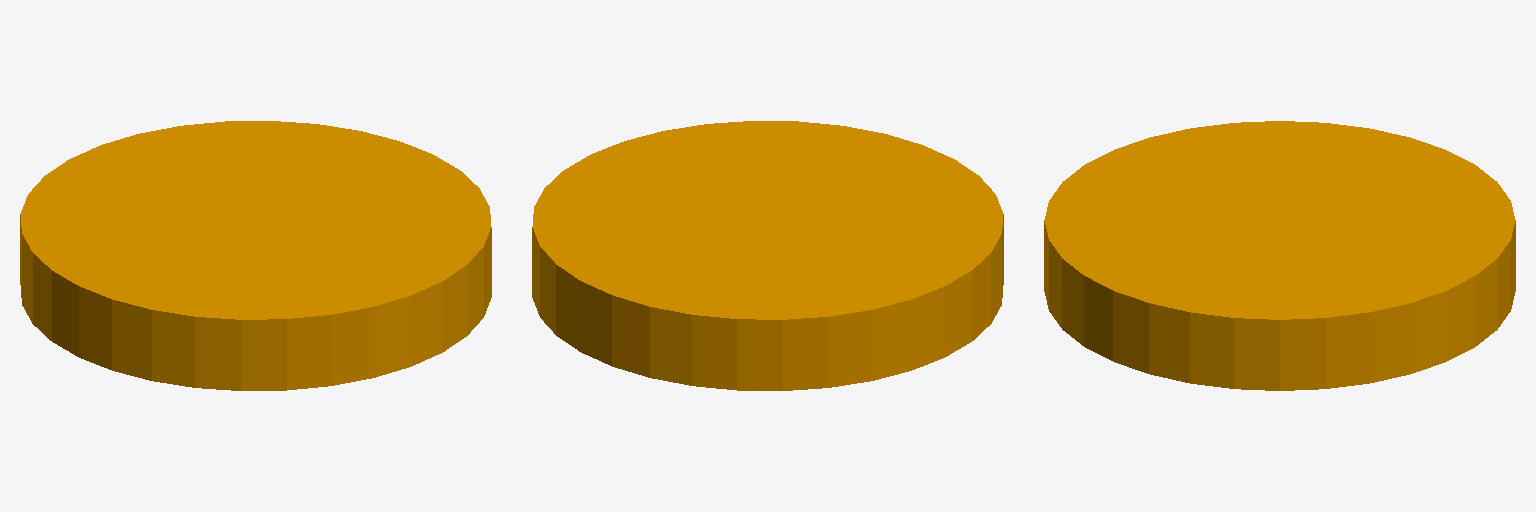
The robot description file, URDF, robot "cube":
<?xml version="1.0" ?>
<robot name="cube">
    <link name="baseLink">
        <contact>
            <lateral_friction value="1.0"/>
            <rolling_friction value="0.0"/>
            <contact_cfm value="0.0"/>
            <contact_erp value="1.0"/>
        </contact>
        <inertial>
            <origin rpy="0 0 0" xyz="0 0 0"/>
            <mass value="1.0"/>
            <inertia ixx="1" ixy="0" ixz="0" iyy="1" iyz="0" izz="1"/>
        </inertial>
        <visual>
            <origin rpy="0 0 0" xyz="0 0 0"/>
            <geometry>
                <!-- <box size="6 6 1"/> -->
                <cylinder radius="3" length="1"/>
            </geometry>
        </visual>
        <collision>
            <origin rpy="0 0 0" xyz="0 0 0"/>
            <geometry>
                <!-- <box size="6 6 1"/> -->
                <cylinder radius="3" length="1"/>
            </geometry>
        </collision>
    </link>
</robot>

--- Render facts (derived) ---
Views: 3 orthographic renders of the robot side by side, from view 1: azimuth 30°, elevation 25°; view 2: azimuth 150°, elevation 25°; view 3: azimuth 270°, elevation 25°.
Robot: cube — 1 links, 0 joints (none); root link baseLink; default pose: all joints at 0.
Visible links, largest first — view 1: baseLink; view 2: baseLink; view 3: baseLink.
Boxes of the visible links, box(x1,y1,x2,y2) form: baseLink: box(20, 121, 491, 390); baseLink: box(532, 121, 1003, 390); baseLink: box(1044, 121, 1515, 390).
Size in the robot's own frame: 6 by 6 by 1 metres.
Geometry: primitives only (box / cylinder / sphere), no mesh files.